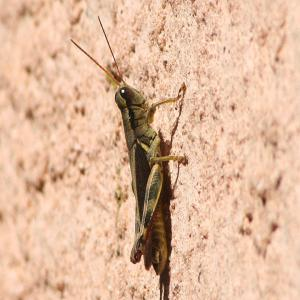locust: (97, 37, 196, 285)
